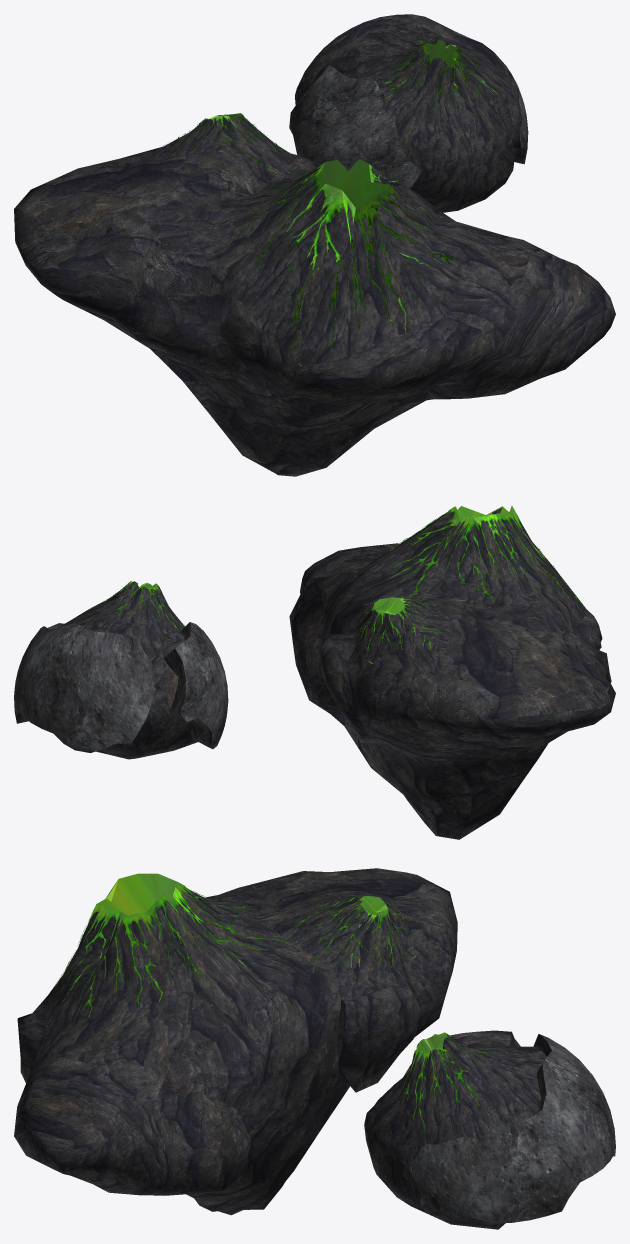
The model's file is stg610_03.obj.
The picture shows the model from 3 angles, top to bottom: view 1: azimuth 30°, elevation 25°; view 2: azimuth 150°, elevation 25°; view 3: azimuth 270°, elevation 25°; orthographic projection. The views are drawn at different scales.
Visible parts, largest first — view 1: polygon2, polygon5, polygon3, polygon0, polygon4, polygon1; view 2: polygon2, polygon3, polygon5, polygon0, polygon4, polygon1; view 3: polygon2, polygon3, polygon5, polygon0, polygon1, polygon4.
Part boxes in pixels (<box>): polygon2: <box>14,115,615,476</box>; polygon5: <box>335,25,515,212</box>; polygon3: <box>289,19,528,188</box>; polygon0: <box>146,113,463,366</box>; polygon4: <box>295,14,525,170</box>; polygon1: <box>378,38,502,121</box>; polygon2: <box>289,507,615,839</box>; polygon3: <box>14,622,228,752</box>; polygon5: <box>49,581,197,759</box>; polygon0: <box>356,505,582,663</box>; polygon4: <box>16,622,212,749</box>; polygon1: <box>85,581,185,631</box>; polygon2: <box>14,868,457,1215</box>; polygon3: <box>402,1034,615,1223</box>; polygon5: <box>364,1034,546,1229</box>; polygon0: <box>45,873,416,1018</box>; polygon1: <box>397,1032,495,1131</box>; polygon4: <box>403,1030,614,1156</box>.
Size of the model in its own units: 3680 by 2088 by 3380.
3 materials, 3 textured.
